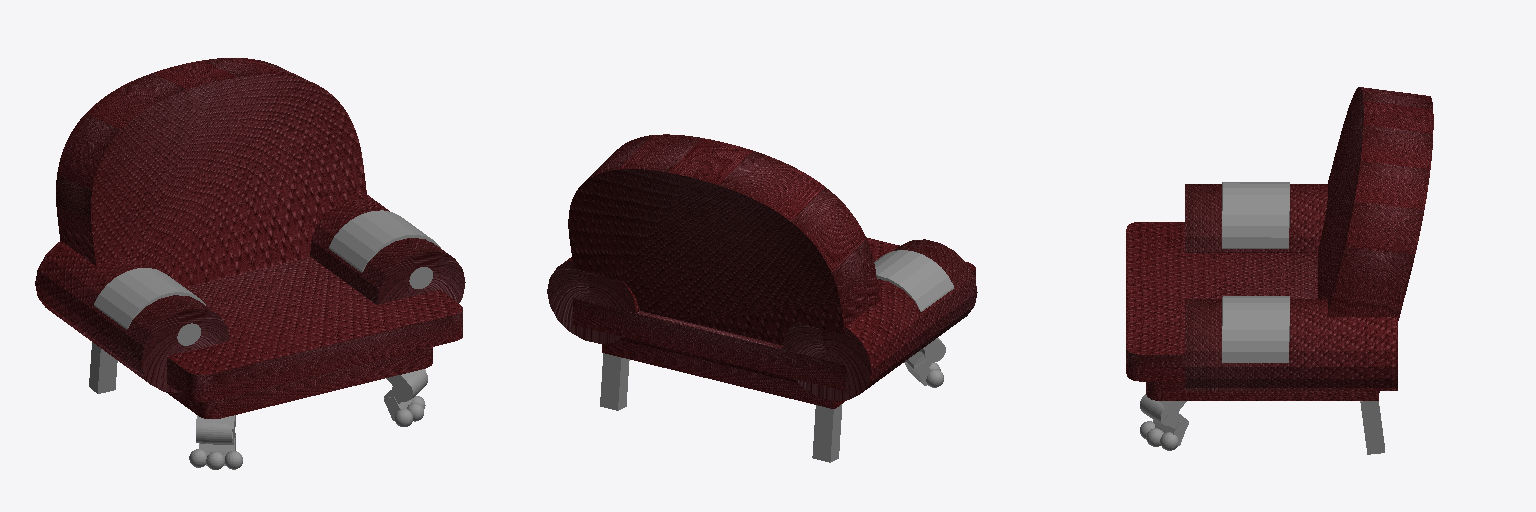
3 renders of one model, left to right at view 1: azimuth 30°, elevation 25°; view 2: azimuth 150°, elevation 25°; view 3: azimuth 270°, elevation 25°, orthographic.
Visible parts, largest first — view 1: default, Box002, Cylinder002, Cylinder001, Box001, OilTank002, OilTank001, Box004, Sphere012, Sphere005; view 2: default, Cylinder002, Box002, Box001, Cylinder001, OilTank001, Box004, Box003; view 3: default, Box002, Cylinder001, Cylinder002, OilTank001, OilTank002, Box001, Box003.
Boxes of the visible parts, x1=… form: default: x1=56, y1=58, x2=367, y2=286; Box002: x1=167, y1=257, x2=462, y2=401; Cylinder002: x1=35, y1=241, x2=229, y2=392; Cylinder001: x1=310, y1=195, x2=465, y2=304; Box001: x1=166, y1=347, x2=432, y2=418; OilTank002: x1=329, y1=210, x2=440, y2=272; OilTank001: x1=94, y1=268, x2=205, y2=329; Box004: x1=89, y1=342, x2=117, y2=393; Sphere012: x1=196, y1=423, x2=232, y2=443; Sphere005: x1=392, y1=370, x2=427, y2=401; default: x1=568, y1=134, x2=879, y2=382; Cylinder002: x1=782, y1=239, x2=977, y2=400; Box002: x1=573, y1=237, x2=975, y2=391; Box001: x1=602, y1=340, x2=846, y2=408; Cylinder001: x1=547, y1=257, x2=639, y2=343; OilTank001: x1=874, y1=250, x2=953, y2=311; Box004: x1=812, y1=404, x2=841, y2=462; Box003: x1=600, y1=353, x2=629, y2=410; default: x1=1318, y1=87, x2=1433, y2=392; Box002: x1=1126, y1=222, x2=1317, y2=381; Cylinder001: x1=1185, y1=299, x2=1397, y2=390; Cylinder002: x1=1185, y1=184, x2=1327, y2=252; OilTank001: x1=1222, y1=182, x2=1289, y2=248; OilTank002: x1=1222, y1=296, x2=1289, y2=362; Box001: x1=1146, y1=382, x2=1378, y2=400; Box003: x1=1360, y1=401, x2=1384, y2=454.
Size of the model in its own units: 63.46 by 53.72 by 52.05.
3 materials, 1 textured.